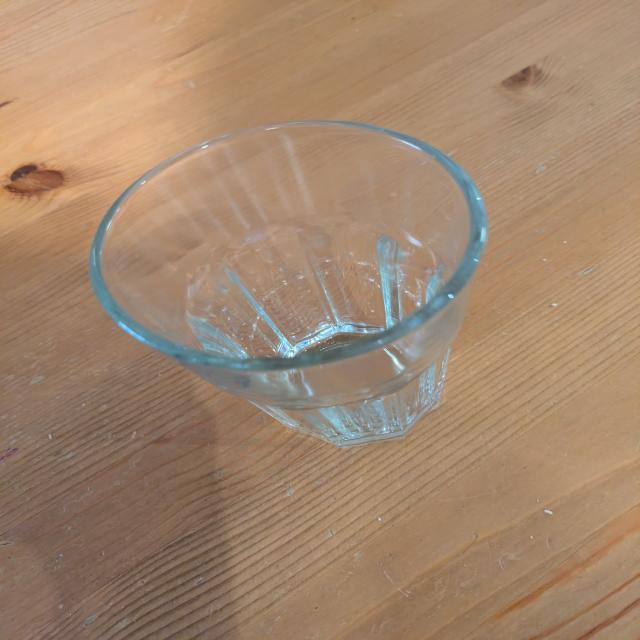ok g1: (86, 118, 492, 451)
